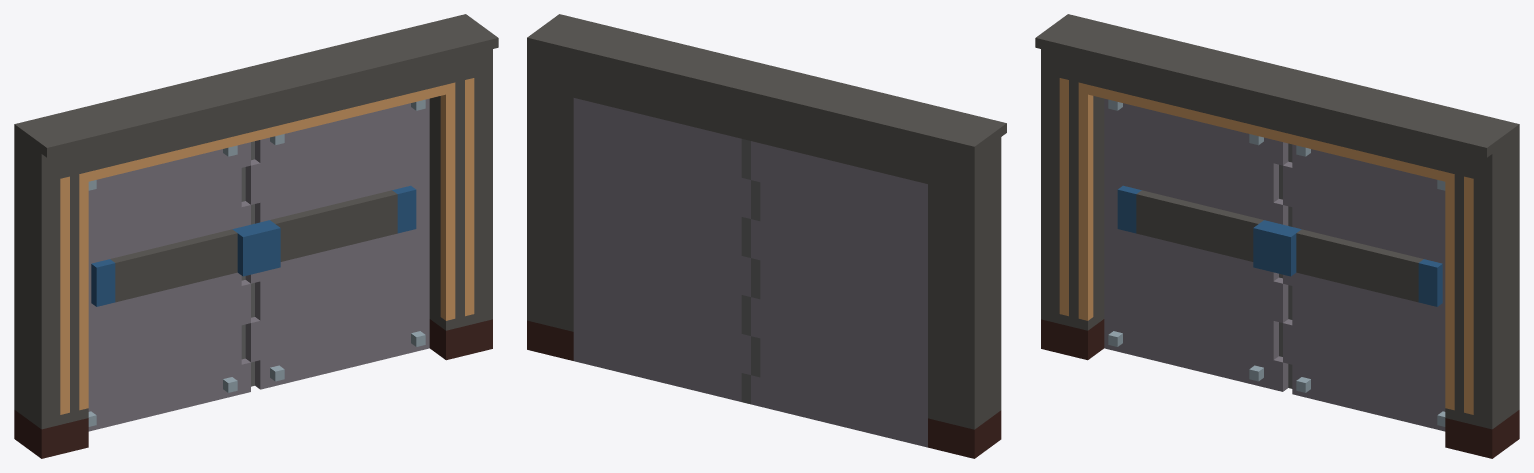
The model's file is BigDoorBlueClosed.obj.
3 renders of one model, left to right at view 1: azimuth 30°, elevation 25°; view 2: azimuth 150°, elevation 25°; view 3: azimuth 330°, elevation 25°, orthographic.
Size of the model in its own units: 48 by 32 by 6.
1 material, 1 textured.
